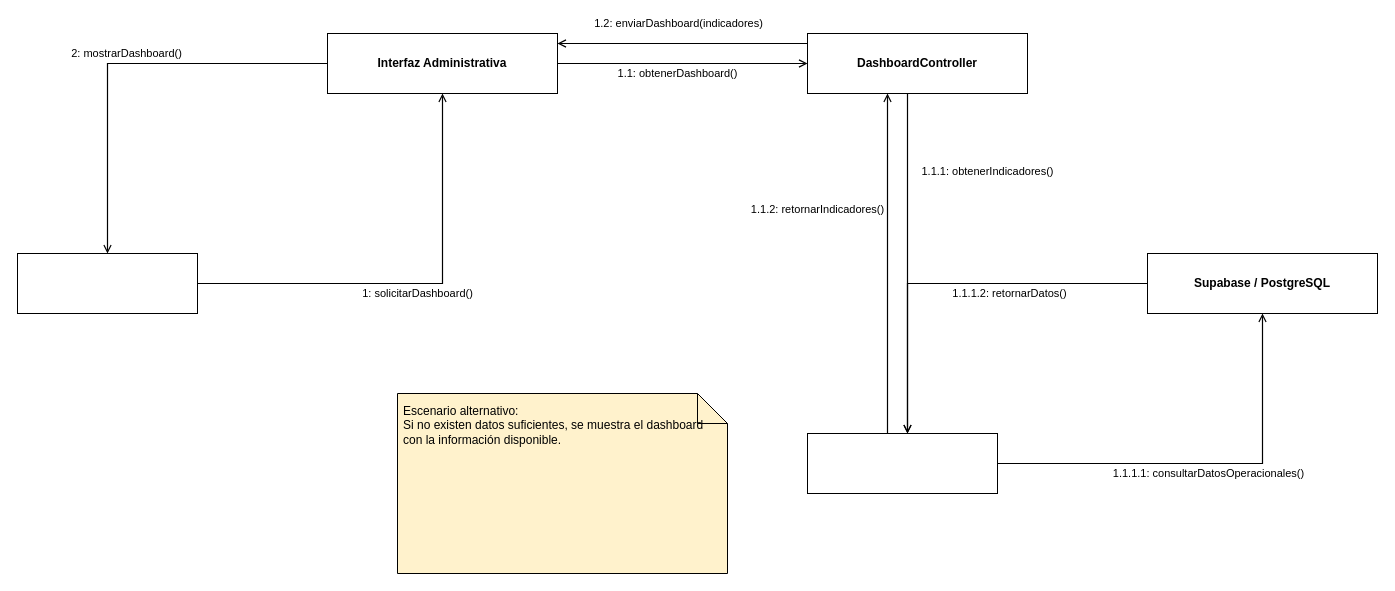
The diagram is 1395 pixels wide and 591 high, and some of its shapes have lost their labels. The shapes that lost their labels are listed below. From the top down, each one's box as (x1, y1, x2, y2) in pixels, then its label:
(16, 252, 198, 314): Administrador
(806, 432, 998, 494): Indicador
